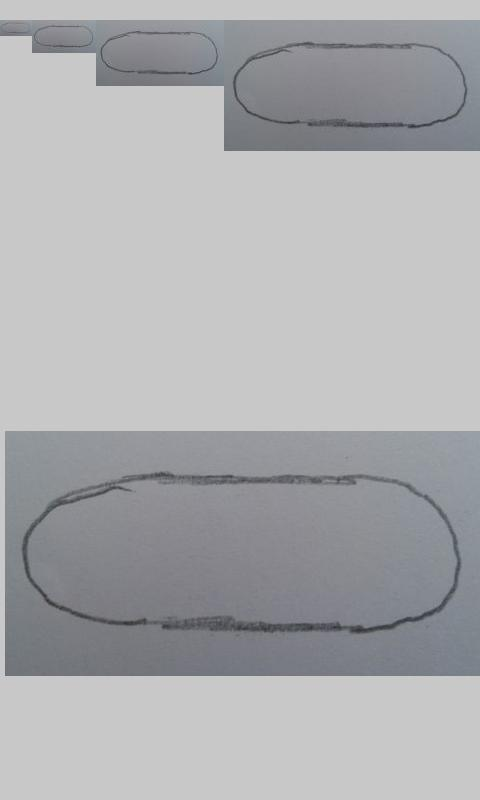chip: (20, 473, 464, 633), (233, 41, 468, 128), (100, 31, 218, 75), (33, 25, 94, 48), (1, 22, 31, 34)
